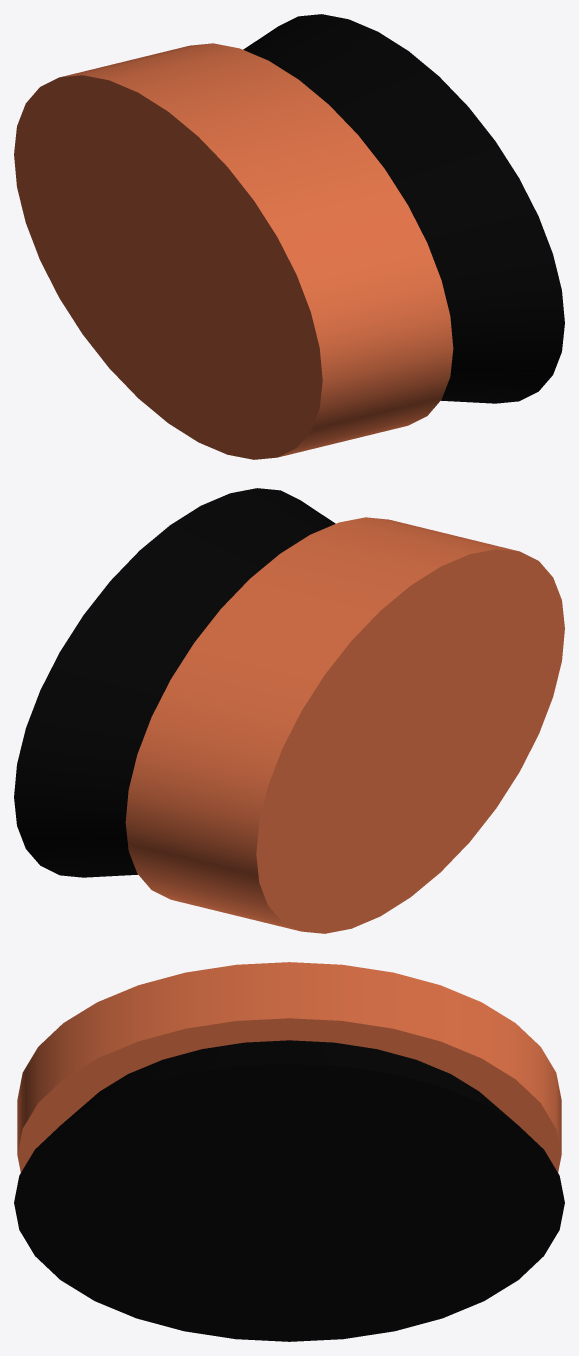
Rendered from Horse_Brush_Rough.glb.
3 views of the same model, one above another, from view 1: azimuth 30°, elevation 25°; view 2: azimuth 150°, elevation 25°; view 3: azimuth 270°, elevation 25° (orthographic). The views are drawn at different scales.
Parts seen in each view (by area): view 1: Brush; view 2: Brush; view 3: Brush.
Part boxes in pixels (box(x1,y1,x2,y2)): Brush: box(14, 14, 564, 459); Brush: box(14, 488, 564, 933); Brush: box(14, 962, 564, 1341).
Size of the model in its own units: 0.0903 by 0.1133 by 0.2034.
